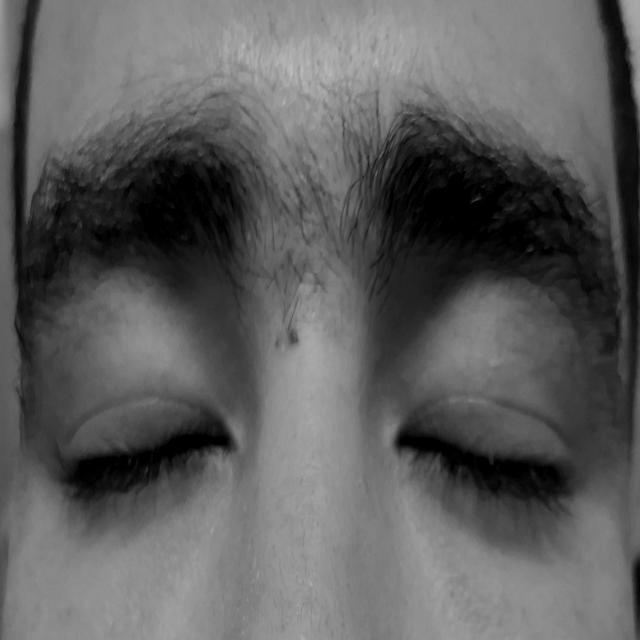real: (33, 135, 617, 616)
